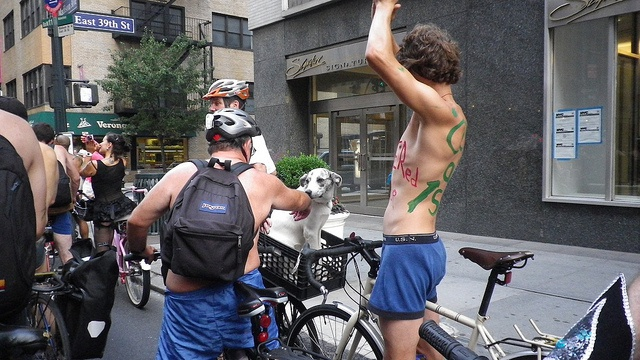non-vehicle: (285, 232, 564, 356), (237, 281, 287, 360), (113, 215, 151, 308), (27, 277, 70, 351)
